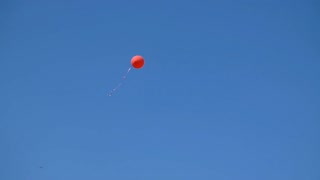Balloon: (131, 55, 144, 69)
